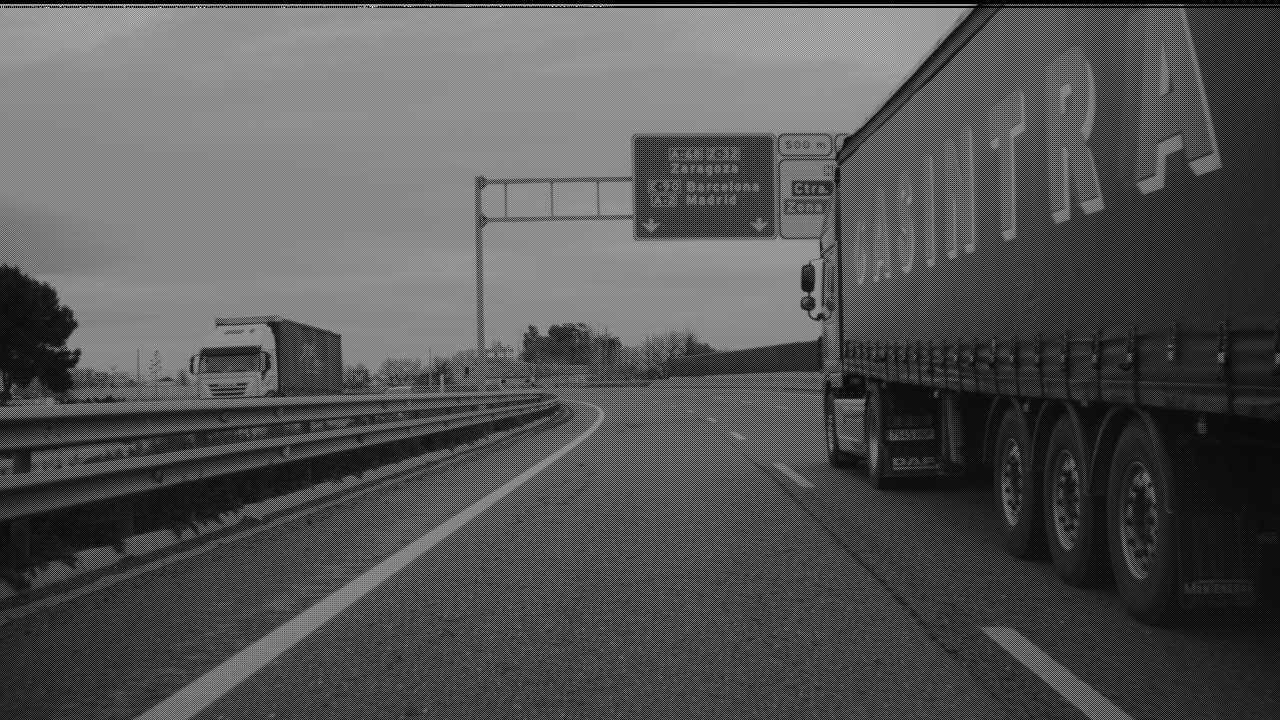pole: (474, 166, 486, 382)
